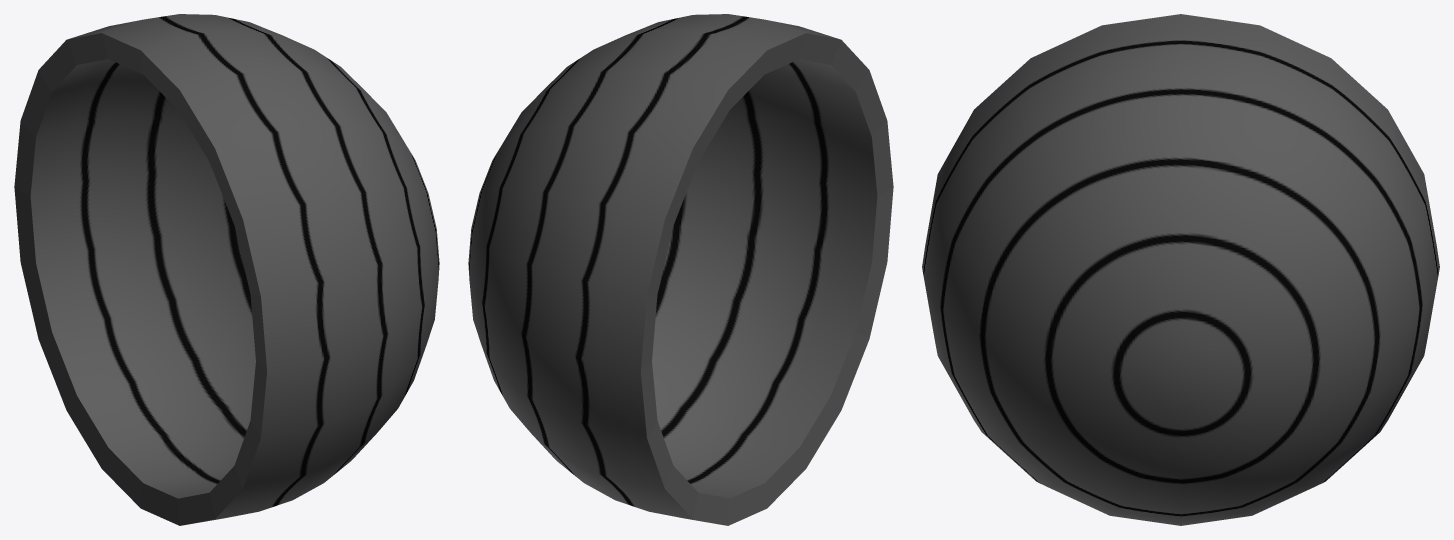
Rendered from FOGUETE.fbx.
The picture shows the model from 3 angles, left to right: view 1: azimuth 30°, elevation 25°; view 2: azimuth 150°, elevation 25°; view 3: azimuth 270°, elevation 25°; orthographic projection.
Visible parts, largest first — view 1: polySurface37; view 2: polySurface37; view 3: polySurface37.
Part boxes in pixels (bbox=[...]): polySurface37: bbox=[14, 14, 439, 525]; polySurface37: bbox=[468, 14, 893, 525]; polySurface37: bbox=[922, 14, 1439, 525].
Bounding box in the file's own units: 0.7637 × 1.28 × 1.28.
Materials: 1 (1 with a texture image).
